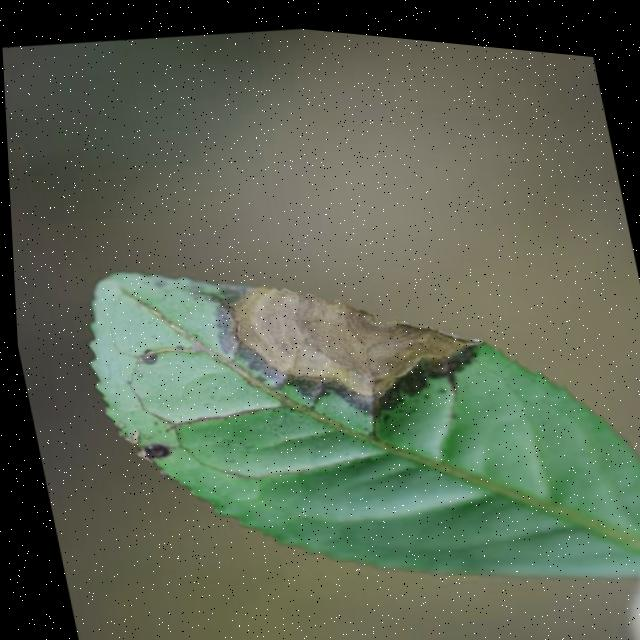Tea cloud leaf blight: (207, 238, 480, 423)
